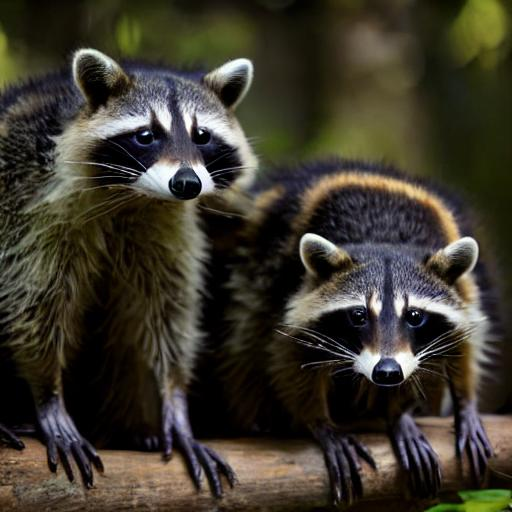raccoon: (0, 44, 267, 403), (204, 152, 502, 447)
